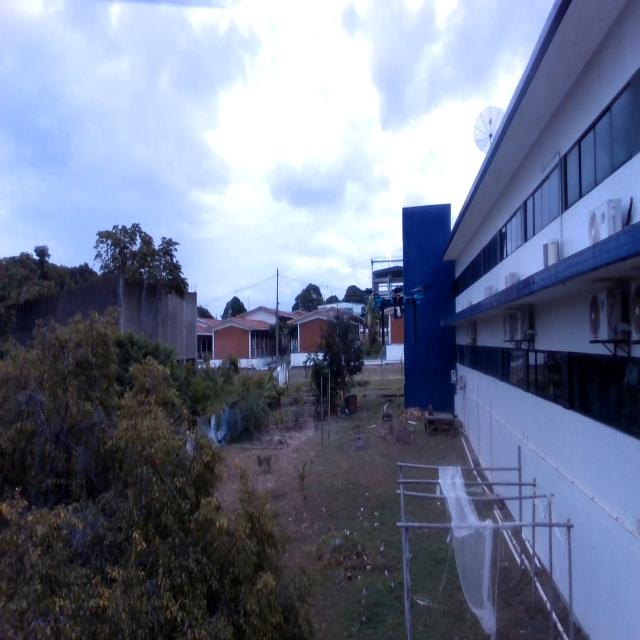-uav-: (376, 280, 425, 361)
